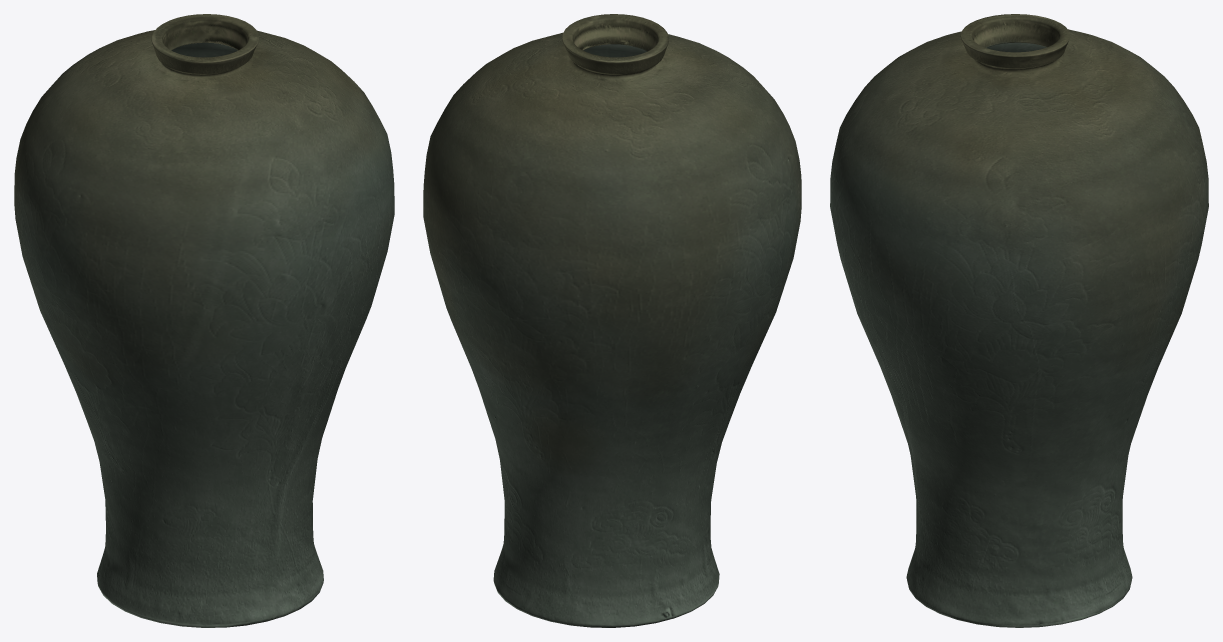
File: SM_Celadon_PorcelainA.fbx
3 renders of one model, left to right at view 1: azimuth 30°, elevation 25°; view 2: azimuth 150°, elevation 25°; view 3: azimuth 270°, elevation 25°, orthographic.
Parts seen in each view (by area): view 1: SM_Celadon_PorcelainA; view 2: SM_Celadon_PorcelainA; view 3: SM_Celadon_PorcelainA.
Part boxes in pixels (x1,y1,x2,y2): SM_Celadon_PorcelainA: [14, 14, 394, 627]; SM_Celadon_PorcelainA: [423, 14, 801, 627]; SM_Celadon_PorcelainA: [830, 14, 1208, 627].
Size of the model in its own units: 24.31 by 24.31 by 38.59.
Materials: 1 (1 with a texture image).
